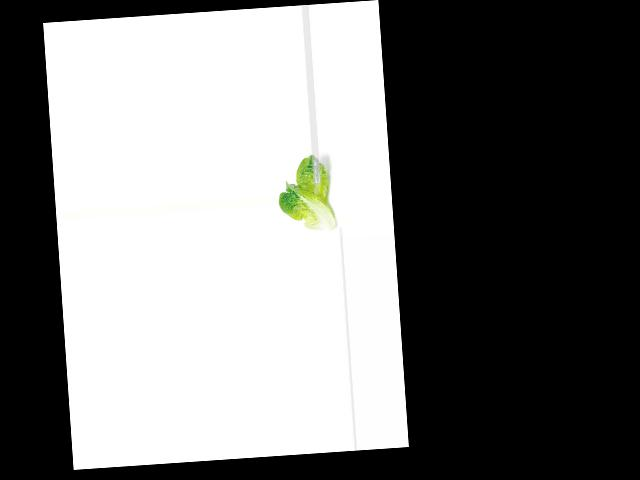lettuce: (275, 151, 334, 236)
